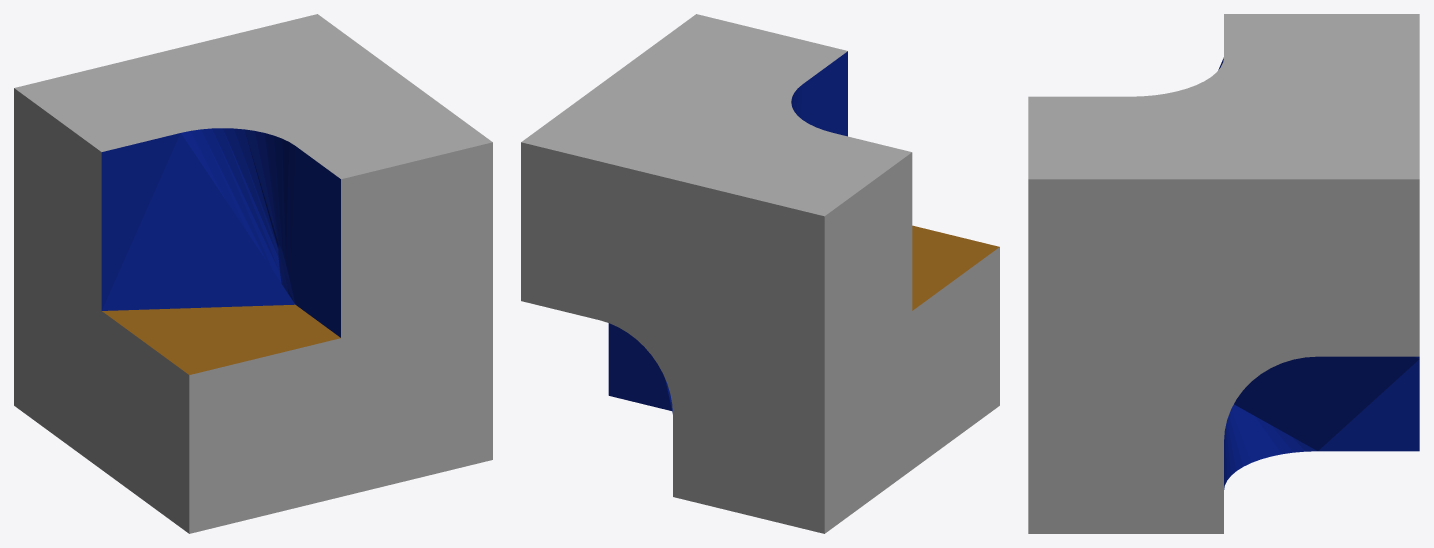
The model's file is case_125.fbx.
3 renders of one model, left to right at view 1: azimuth 30°, elevation 25°; view 2: azimuth 150°, elevation 25°; view 3: azimuth 270°, elevation 25°, orthographic. The views are drawn at different scales.
Parts seen in each view (by area): view 1: case_125; view 2: case_125; view 3: case_125.
Part boxes in pixels (x1,y1,x2,y2): case_125: (14,14,492,533); case_125: (521,14,999,533); case_125: (1028,14,1419,533).
Size of the model in its own units: 1 by 1 by 1.
